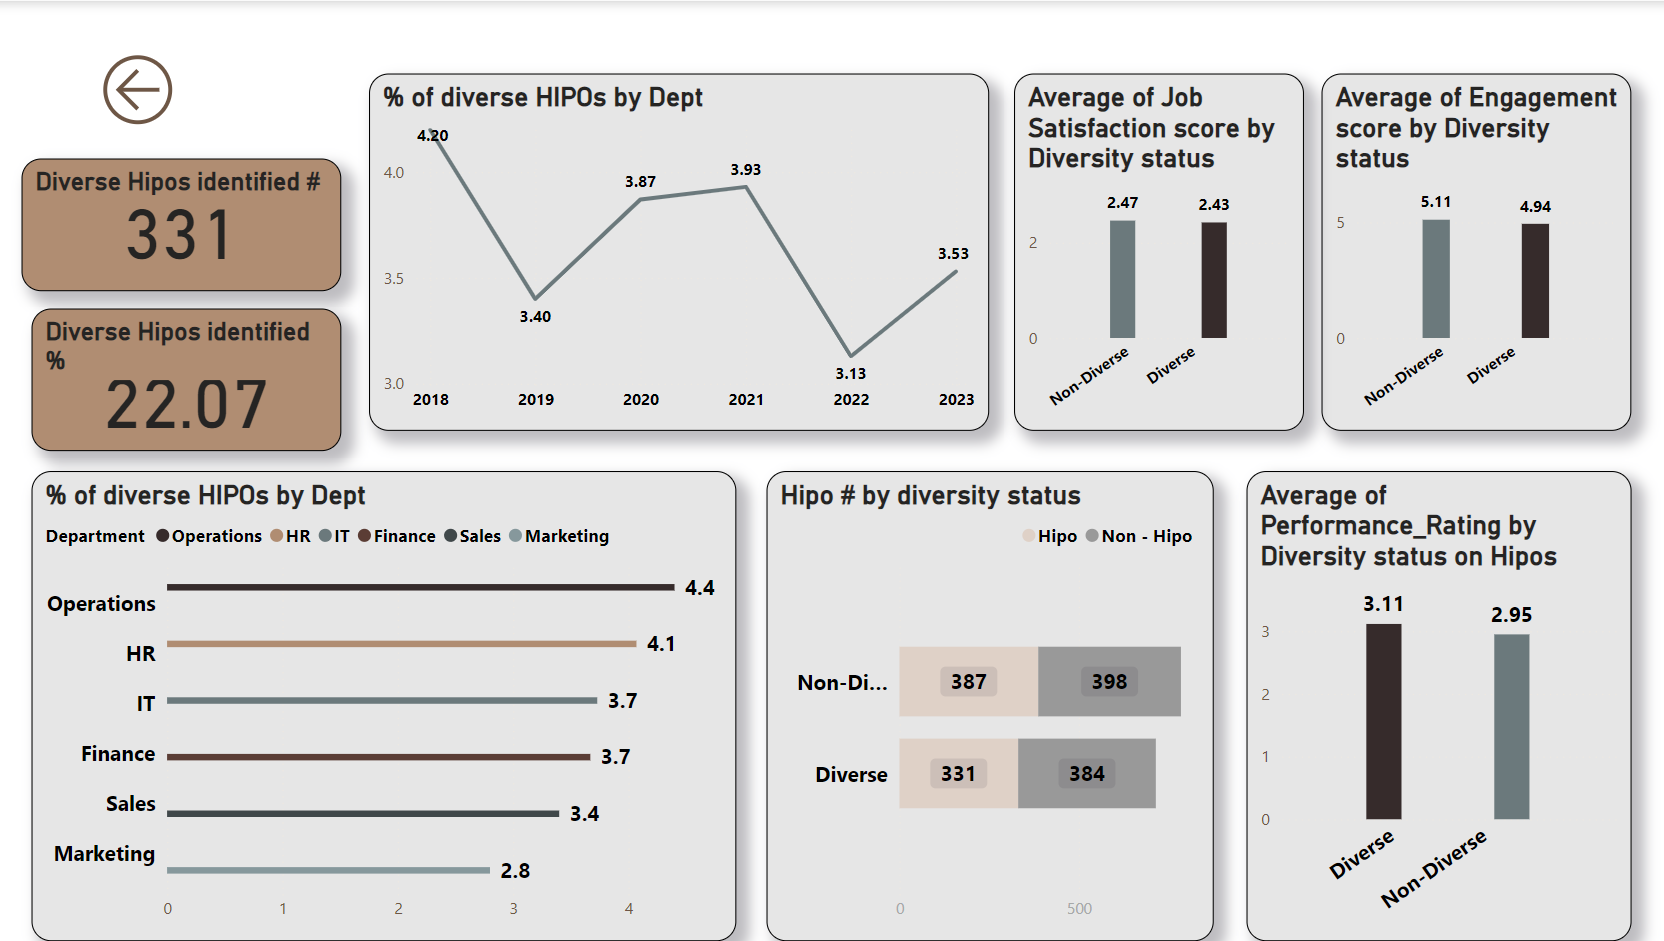

This screenshot's page, from the dashboard's own definition file:
{"tool":"powerbi","page":{"name":"Hipos and Diversity analysis","canvas":[1280,720],"ordinal":6},"visuals":[{"type":"barChart","title":"Hipo # by diversity status","fields":{"Category":["SP data.Diverse or not?"],"Series":["SP data.Hipo or not?"],"Y":["CountNonNull(SP data.Employee_ID)"]},"box":[587.6,359.8,342.6,359.8],"z":0},{"type":"card","title":"Diverse Hipos identified #","fields":{"Values":["CountNonNull(SP data.Employee_ID)"]},"box":[17.2,120.6,245,101.4],"z":1000},{"type":"card","title":"Diverse Hipos identified %","fields":{"Values":["SP data.Diverse HIPOs %"]},"box":[24.9,235.4,237.3,109.1],"z":2000},{"type":"clusteredColumnChart","title":"Average of Performance_Rating by Diversity status on Hipos","fields":{"Y":["Avg(SP data.Performance_Rating)"],"Category":["SP data.Diverse or not?"],"Series":["SP data.Diverse or not?"]},"box":[955,359.8,294.7,359.8],"z":3000},{"type":"clusteredColumnChart","title":"Average of Engagement score by Diversity status","fields":{"Category":["SP data.Diverse or not?"],"Series":["SP data.Diverse or not?"],"Y":["Avg(SP data.Engagement_Score)"]},"box":[1012.4,55.5,237.3,273.7],"z":4000},{"type":"clusteredColumnChart","title":"Average of Job Satisfaction score by Diversity status","fields":{"Category":["SP data.Diverse or not?"],"Series":["SP data.Diverse or not?"],"Y":["Avg(SP data.Job_Satisfaction)"]},"box":[777,55.5,222,273.7],"z":5000},{"type":"clusteredBarChart","title":"% of diverse HIPOs by Dept","fields":{"Y":["SP data.% of diverse HIPOs updated"],"Category":["SP data.Department"],"Series":["SP data.Department"]},"box":[24.9,359.8,539.7,359.8],"z":6000},{"type":"lineChart","title":"% of diverse HIPOs by Dept","fields":{"Y":["SP data.% of diverse HIPOs fixed"],"Category":["SP data.Promotion_Date.Variation.Date Hierarchy.Year","SP data.Promotion_Date.Variation.Date Hierarchy.Quarter","SP data.Promotion_Date.Variation.Date Hierarchy.Month","SP data.Promotion_Date.Variation.Date Hierarchy.Day"]},"box":[283.3,55.5,474.6,273.7],"z":6001},{"type":"actionButton","box":[72.7,34.4,124.4,67],"z":6002}]}

Visuals, with their boxes in screenshot pixels (x1, y1, x2, y2), scaled from the page's 1280x720 canvas onto the 1664x941 screenshot:
"Hipo # by diversity status" barChart: BBox(764, 470, 1209, 940)
"Diverse Hipos identified #" card: BBox(22, 158, 341, 290)
"Diverse Hipos identified %" card: BBox(32, 308, 341, 450)
"Average of Performance_Rating by Diversity status on Hipos" clusteredColumnChart: BBox(1242, 470, 1625, 940)
"Average of Engagement score by Diversity status" clusteredColumnChart: BBox(1316, 73, 1625, 430)
"Average of Job Satisfaction score by Diversity status" clusteredColumnChart: BBox(1010, 73, 1299, 430)
"% of diverse HIPOs by Dept" clusteredBarChart: BBox(32, 470, 734, 940)
"% of diverse HIPOs by Dept" lineChart: BBox(368, 73, 985, 430)
actionButton: BBox(95, 45, 256, 133)
